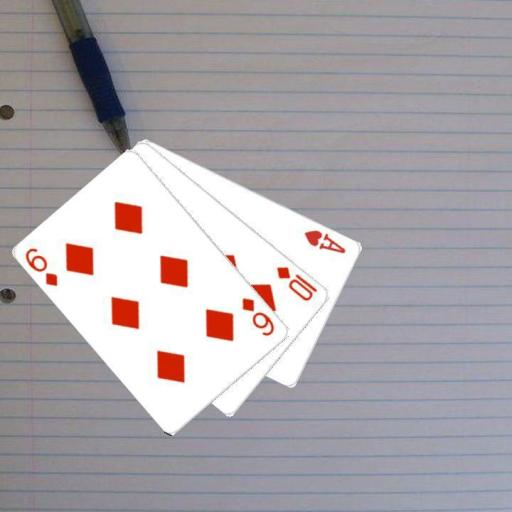card-corner: (274, 263, 319, 303), (239, 294, 277, 338), (22, 245, 60, 288), (301, 226, 348, 255)
